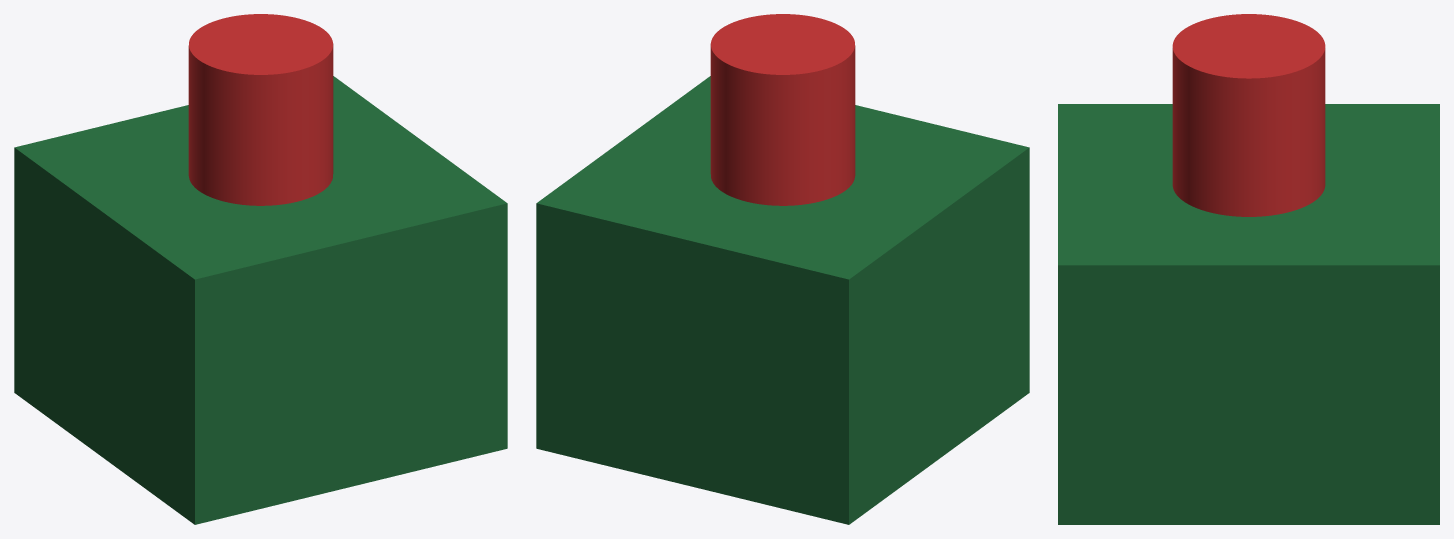
File: boundary.glb
3 views of the same model, side by side, from view 1: azimuth 30°, elevation 25°; view 2: azimuth 150°, elevation 25°; view 3: azimuth 270°, elevation 25° (orthographic). The views are drawn at different scales.
Parts seen in each view (by area): view 1: _MeshInstance3D_8, _MeshInstance3D_9; view 2: _MeshInstance3D_8, _MeshInstance3D_9; view 3: _MeshInstance3D_8, _MeshInstance3D_9.
Boxes of the visible parts, x1,y1,x2,y2 form: _MeshInstance3D_8: (14,76,507,524); _MeshInstance3D_9: (188,14,333,205); _MeshInstance3D_8: (536,76,1029,524); _MeshInstance3D_9: (710,14,855,205); _MeshInstance3D_8: (1058,104,1439,524); _MeshInstance3D_9: (1172,14,1325,216).
Bounding box in the file's own units: 2 × 2.3 × 2.
